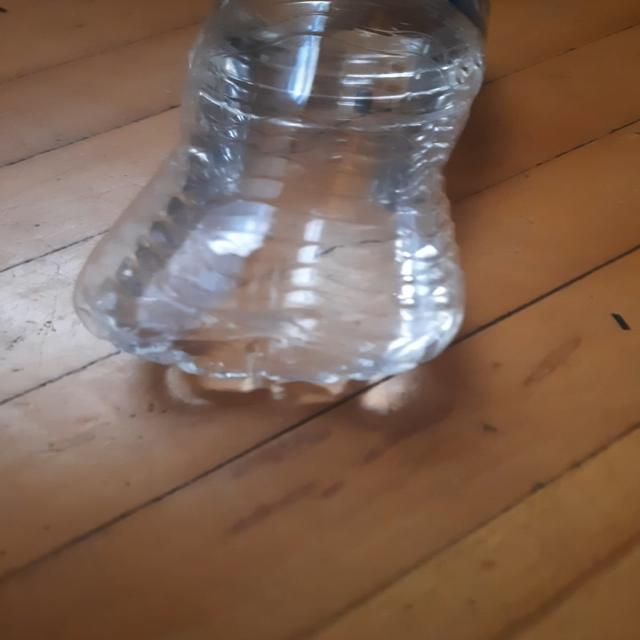Plastic: (70, 0, 489, 409)
